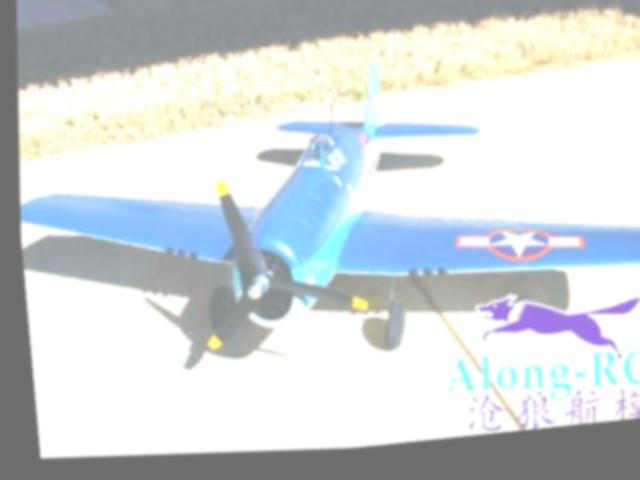uav: (5, 23, 640, 380)
